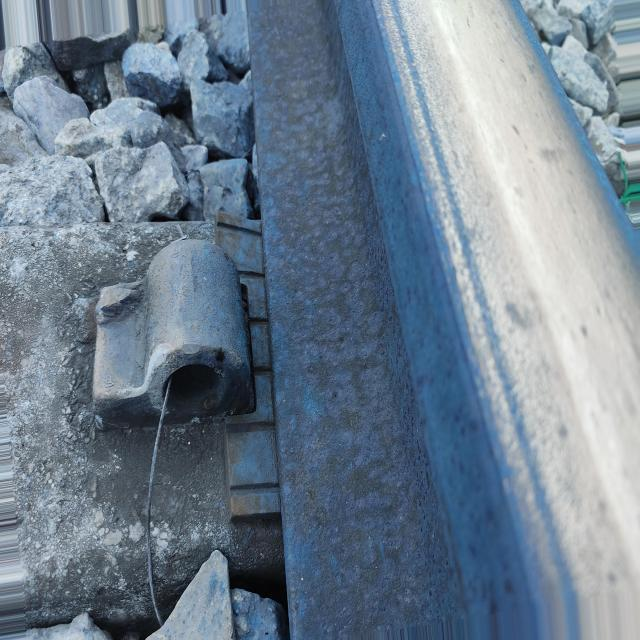Missing Fastener: (84, 247, 260, 453)
